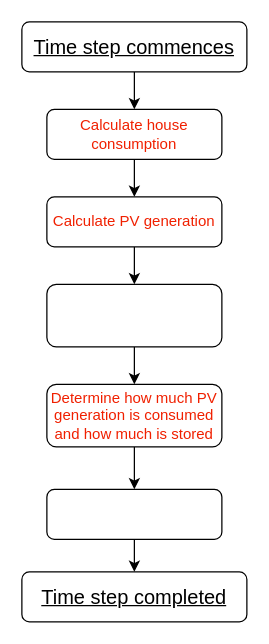
The diagram is 269 pixels wide and 644 high, and some of its shapes have lost their labels. The centre of each missing label's shape, as x and y in pixels:
"Charge battery from grid if needed" belongs at [134,513].
"Determine car charge requirements once car has returned" belongs at [134,315].
